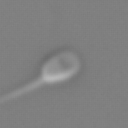normal: (1, 75, 44, 106)
